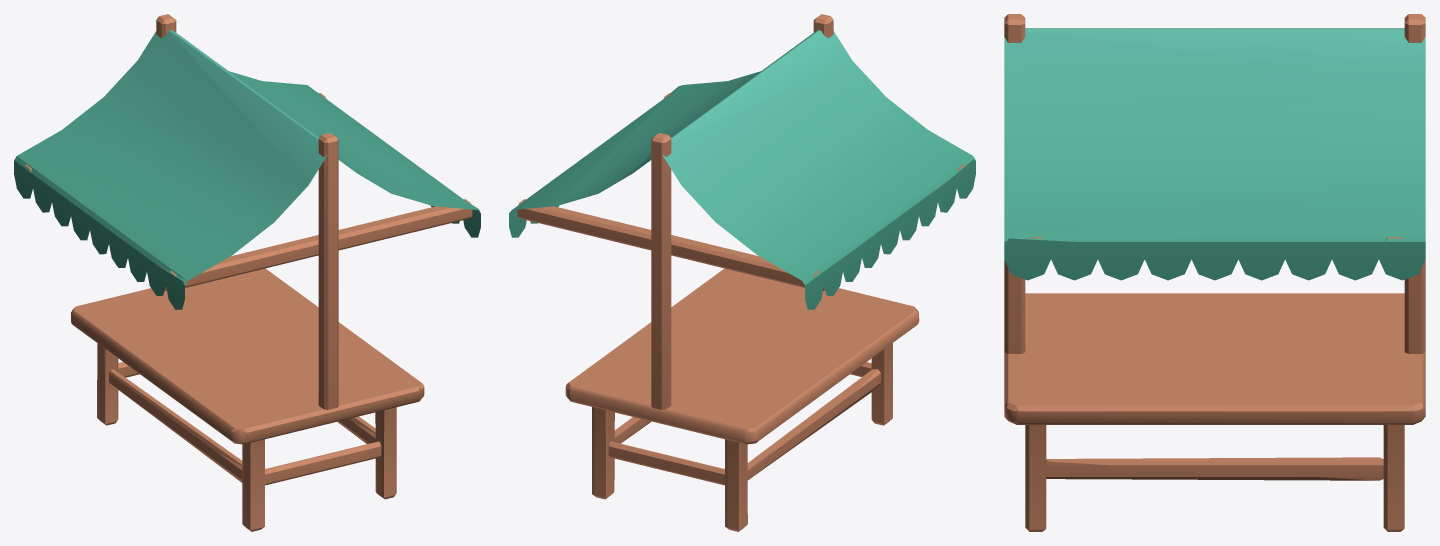
The model's file is kenney-fantasy-town__stall-green.glb.
The picture shows the model from 3 angles, left to right: view 1: azimuth 30°, elevation 25°; view 2: azimuth 150°, elevation 25°; view 3: azimuth 270°, elevation 25°; orthographic projection. The views are drawn at different scales.
Visible parts, largest first — view 1: stall-green; view 2: stall-green; view 3: stall-green.
Boxes of the visible parts, bbox=[...] form: stall-green: bbox=[14, 14, 480, 531]; stall-green: bbox=[509, 14, 975, 531]; stall-green: bbox=[1004, 14, 1425, 531].
Size of the model in its own units: 1 by 1.24 by 1.
1 material, 1 textured.
